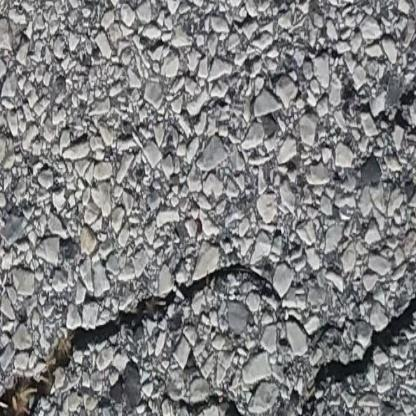Cracks: (0, 260, 282, 416), (285, 281, 416, 416), (373, 105, 416, 166), (176, 392, 271, 416)
